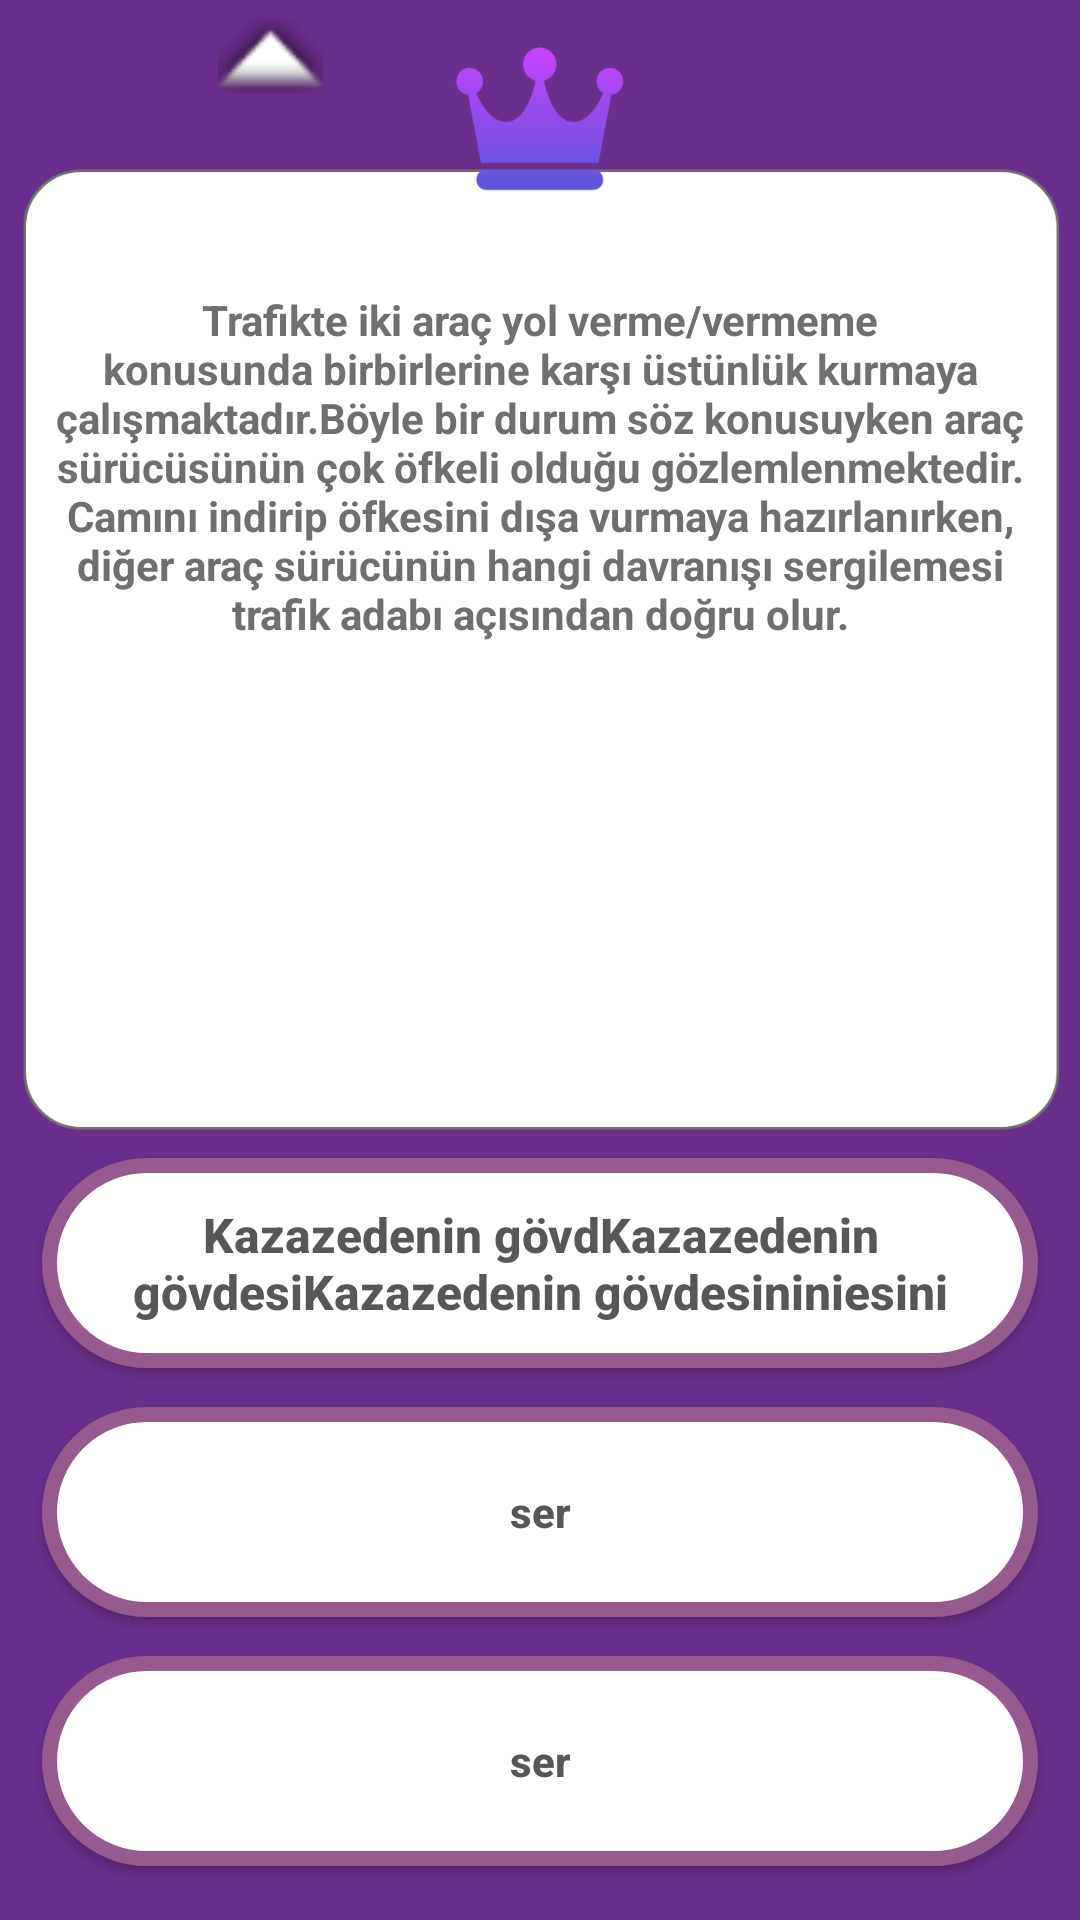

Icons on this 1080*1920 Android screen, each with its box as (x1, y1, x2, y2):
arrow up float: (221, 26, 320, 88)
